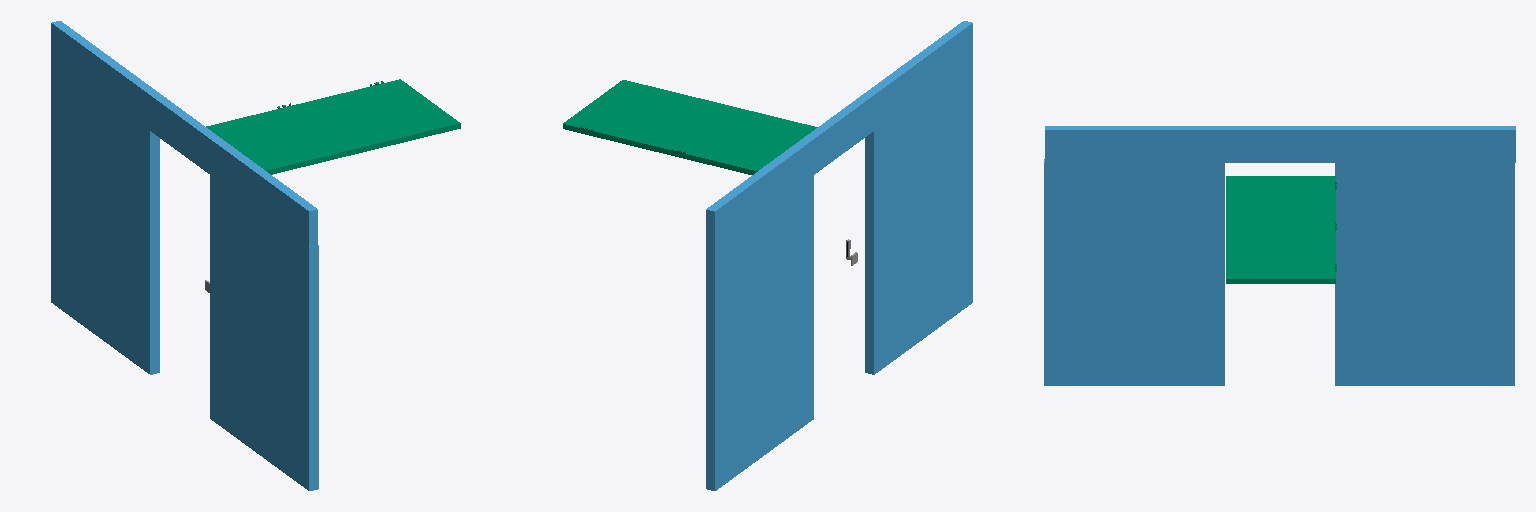
robot.urdf — door_test:
<robot name = 'door_test' xmlns:xacro="http://ros.org/wiki/xacro">
    <!-- <link name = 'world'/> -->
    
    <!-- <joint name = 'world2base' type = 'fixed'>
        <parent link = 'world'/>
        <child link = 'base_link'/>
    </joint> -->

    <link name = 'base_link'/>
        
    <joint name = 'base_joint' type = 'fixed'>
        <parent link = 'base_link'/>
        <origin xyz = '0 0.5 0.0' rpy='0 0 3.14159'/>
        <!-- if move y : the door will slide -->
        <child link = 'door_wall'/>
    </joint>

    <link name = 'door_wall'>
        <visual>
            <geometry>
                <box size='0.08 1.5 2.04'/>
            </geometry>
            <origin xyz = '0 -0.67 1.02' rpy = '0 0 0'/>
        </visual>
        <visual>
            <geometry>
                <box size='0.08 1.5 2.04'/>
            </geometry>
            <origin xyz = '0 1.74 1.02' rpy = '0 0 0'/>
        </visual>
        <visual>
            <geometry>
                <box size='0.08 3.91 0.3'/>
            </geometry>
            <origin xyz = '0 0.532 2.19' rpy = '0 0 0'/>
        </visual>

        <collision name="side_1_:hinge_side">
            <geometry>
                <box size='0.08 1.5 2.04'/>
            </geometry>
            <origin xyz = '0 -0.67 1.02' rpy = '0 0 0'/>
        </collision>
        <collision name="side_2">
            <geometry>
                <box size = '0.05029 0.06858 2.10820'/>
            </geometry>
            <origin xyz="-0.02 1.02 1.05" rpy="0 0 0"/>
        </collision>
        <collision>
            <geometry>
                <box size='0.08 1.5 2.04'/>
            </geometry>
            <origin xyz = '0 1.8 1.02' rpy = '0 0 0'/>
        </collision>
        <collision name="top">
            <geometry>
                <box size='0.08 3.91 0.3'/>
            </geometry>
            <origin xyz = '0 0.532 2.19' rpy = '0 0 0'/>
        </collision>
        <inertial>
            <origin xyz="0 0 0" rpy="0 0 0"/>
            <mass value="10000.0"/>
            <inertia ixx="0.0" ixy="0.0" ixz="0.0" iyy="0.0" iyz="0.0" izz="0.0"/>
        </inertial>
    </link>

    <joint name = 'door_hinge' type = 'revolute'>
        <axis xyz = '0 0 1' rpy = '0 0 0 '/>
        <origin xyz = '-0.07 0.06858 2.040'/>
        <limit lower = '0' upper = '1.57' effort='10000' velocity="100.00"/>
        <dynamics damping="25.0" friction="0.0"/>
        <parent link = 'door_wall'/>
        <child link = 'door'/>
    </joint>

    <link name = 'door'>
        <visual>
            <geometry>
                <mesh filename = './meshes/door.dae'/>
            </geometry>
            <origin xyz = '-0.05 0 0' rpy = '-1.57 0 1.57'/>
            <color rgba = '0.5 0.5 0.5 1.0'/>
        </visual>
        <visual>
            <geometry>
                <mesh filename = './meshes/v5_plate.dae' scale='0.04 0.04 0.04'/>
            </geometry>
            <origin xyz = '0.03 0.75 -1.02' rpy = '-1.57 0 3.14159'/>
            <color rgba = '0.5 0.5 0.5 1.0'/>
        </visual>
        <collision name="door_collision">
            <geometry>
                <mesh filename = './meshes/door.dae'/>
            </geometry>
            <origin xyz = '-0.05 0 0' rpy = '-1.57 0 1.57'/>
        </collision>
        <inertial>
            <origin xyz="0.4569 0.0349 1.016" rpy="0 0 0"/>
            <mass value="41.3256"/>
            <inertia ixx="14.2053" ixy="0.0004" ixz="0.0000" iyy="17.1997" iyz="0.0000" izz="3.0298"/>
        </inertial>
    </link>

    <joint name = 'door_handle' type = 'revolute'>
        <axis xyz = '1 0 0' rpy = '0 0 0 '/>
        <parent link = 'door'/>
        <origin xyz = '0.035 0.75 -1.02'/>
        <limit lower = '0' upper = '0.5236' effort='100' velocity="1000.00"/>
        <dynamics damping="0.01" friction="0.0"/>
        <child link = 'door_handles'/>
    </joint>

    <link name = 'door_handles'>
        <visual>
            <geometry>
                <mesh filename = './meshes/v5_handle.dae' scale='0.04 0.04 0.04'/>
            </geometry>
            <origin xyz = '-0.0025 0 0' rpy = '-1.57 3.141592 0'/>
            <color rgba = '0.55 0.5 0.5 1.0'/>
        </visual>
        <!-- <visual>
            <geometry>
                <mesh filename = './meshes/with_plate.dae' scale='0.04 0.04 0.04'/>
            </geometry>
            <origin xyz = '0.04 0 0' rpy = '0 0 -1.57'/>
             <color rgba = '0.5 0.5 0.5 1.0'/>
        </visual> -->
        <collision name="door_handles_collision">
            <geometry>
                <mesh filename="./meshes/v5.stl" scale='0.04 0.04 0.04'/>
            </geometry>
            <origin xyz = '-0.0025 0 0' rpy = '-3.14159 3.141592 0'/>
        </collision>
        <!-- <collision name="door_handles_collision">
            <geometry>
                <mesh filename="./meshes/with_plate_collision.dae" scale='0.04 0.04 0.04'/>
            </geometry>
            <origin xyz = '0.045 0 0' rpy = '0 0 -1.57'/>
        </collision> -->
        <inertial>
            <origin xyz="0.0 0.0 0.0" rpy="3.14159 0 1.57"/>
            <mass value="1.0"/>
            <!-- <inertia ixx="14.2053" ixy="0.0004" ixz="0.0000" iyy="17.1997" iyz="0.0000" izz="3.0298"/> -->
        </inertial>
    </link>
    
    <joint name = 'handle2latch' type = 'fixed'>
        <parent link = 'door_handles'/>
        <child link = 'door_latch'/>
    </joint>

    <link name='door_latch'>
        <collision>
            <geometry>
                <box size='0.001 0.14 0.01'/>
            </geometry>
            <origin xyz = '0.043 0.1 0' rpy = '0 0 0'/>
        </collision>
    </link>
    <!-- <gazebo reference="world">
        <material>Gazebo/Red</material>
    </gazebo> -->

</robot>

--- Facts derived from the render (not from the file) ---
3 views of the same robot in one strip: view 1: azimuth 30°, elevation 25°; view 2: azimuth 150°, elevation 25°; view 3: azimuth 270°, elevation 25° (orthographic).
Model door_test with 5 links and 4 joints (2 revolute, 2 fixed), rooted at base_link, posed all joints at 0.
Links seen in each view (by area): view 1: door_wall, door; view 2: door_wall, door; view 3: door_wall, door.
Boxes of the visible links, box(x1,y1,x2,y2) form: door_wall: box(51, 21, 318, 490); door: box(205, 79, 460, 292); door_wall: box(706, 21, 972, 490); door: box(563, 80, 857, 265); door_wall: box(1044, 126, 1515, 385); door: box(1226, 176, 1336, 283).
Size in the robot's own frame: 2.19 by 3.91 by 2.34 metres.
3 mesh visuals loaded from 3 distinct referenced files (3 Collada DAE).